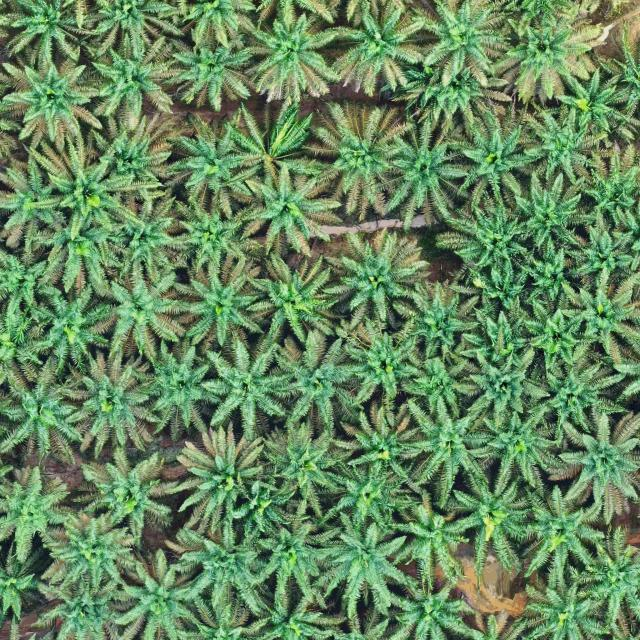Tree: (158, 104, 262, 220), (229, 160, 346, 263), (165, 516, 279, 620), (405, 392, 506, 509), (162, 427, 266, 535), (70, 442, 182, 542), (304, 100, 412, 203), (162, 247, 272, 346), (502, 4, 612, 102), (0, 49, 101, 155), (322, 230, 430, 329), (71, 343, 164, 455), (91, 262, 191, 366), (554, 405, 640, 525), (36, 138, 136, 241), (223, 92, 328, 190), (270, 326, 368, 430), (467, 401, 572, 497), (383, 114, 473, 225), (104, 547, 211, 640), (0, 454, 88, 565), (132, 337, 225, 442), (245, 2, 342, 102), (528, 352, 631, 446), (316, 509, 408, 614), (514, 480, 608, 582), (86, 30, 180, 130), (243, 254, 343, 348), (260, 416, 355, 514), (200, 337, 297, 431), (332, 1, 426, 98), (435, 195, 537, 284), (28, 279, 120, 377), (456, 110, 546, 210), (248, 510, 344, 603), (80, 108, 174, 201), (398, 53, 516, 127), (0, 362, 86, 462), (558, 272, 640, 373), (460, 342, 552, 431), (518, 101, 610, 188), (341, 312, 426, 406), (166, 27, 257, 114), (334, 406, 426, 492), (39, 511, 130, 597), (378, 564, 480, 640), (25, 214, 122, 293), (394, 280, 483, 366), (415, 0, 505, 85), (99, 190, 188, 274), (324, 452, 422, 528), (560, 204, 640, 293), (396, 496, 470, 588), (508, 167, 588, 252), (165, 189, 247, 270), (519, 295, 599, 378), (30, 575, 130, 640), (553, 63, 634, 142), (579, 523, 640, 627), (519, 572, 611, 640), (572, 140, 640, 230), (396, 347, 479, 420), (454, 302, 538, 369), (509, 230, 575, 314), (449, 474, 527, 544), (0, 0, 90, 56), (92, 0, 183, 55), (461, 259, 531, 321)
